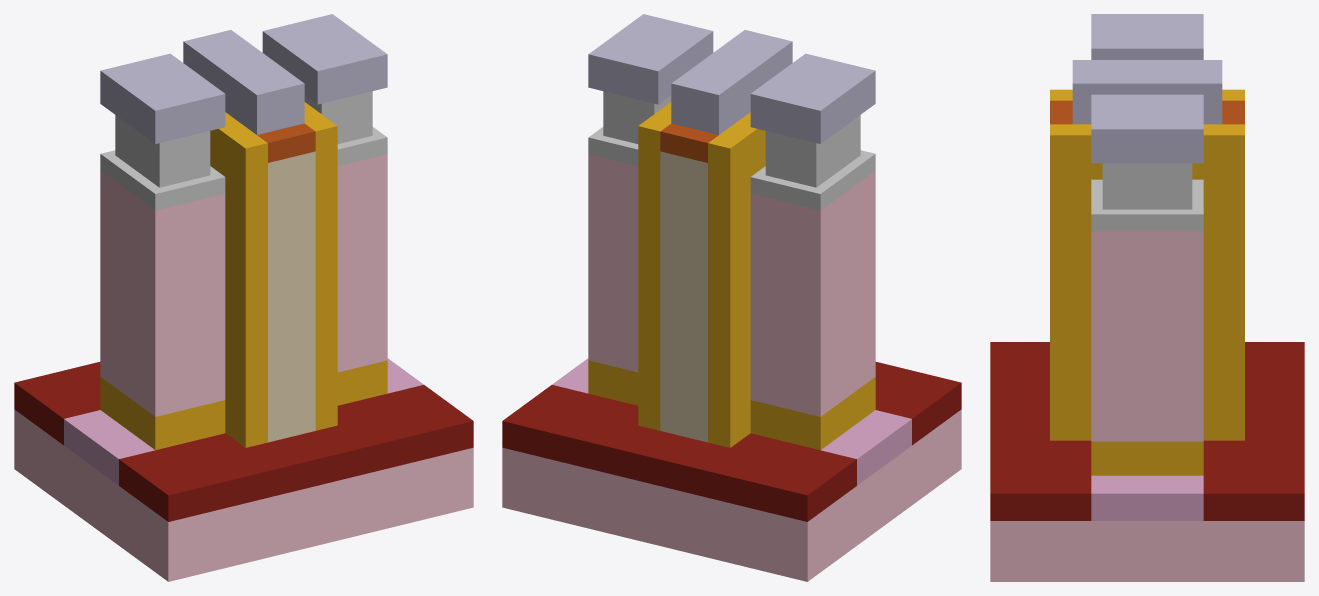
The picture shows the model from 3 angles, left to right: view 1: azimuth 30°, elevation 25°; view 2: azimuth 150°, elevation 25°; view 3: azimuth 270°, elevation 25°; orthographic projection.
Parts seen in each view (by area): view 1: substrate, sti, epi_source, spacer_source, mo, epi_drain, w_source, gatew, w_drain, spacer_drain, bdi, pts (+5 smaller); view 2: substrate, sti, epi_source, spacer_source, mo, epi_drain, w_source, gatew, w_drain, spacer_drain, bdi, pts (+5 smaller); view 3: sti, spacer_drain, epi_drain, substrate, w_drain, gatew, pts, w_source, ni_drain, bdi, nisi_drain, gatecap (+1 smaller).
Part boxes in pixels (x1,y1,x2,y2): substrate: [14, 409, 473, 581]; sti: [14, 362, 473, 521]; epi_source: [100, 170, 225, 416]; spacer_source: [210, 112, 267, 447]; mo: [268, 151, 315, 442]; epi_drain: [337, 154, 387, 372]; w_source: [100, 53, 225, 143]; gatew: [183, 30, 304, 134]; w_drain: [262, 14, 387, 104]; spacer_drain: [304, 102, 337, 430]; bdi: [100, 360, 387, 450]; pts: [64, 358, 423, 485]; substrate: [502, 409, 961, 581]; sti: [502, 362, 961, 521]; epi_source: [750, 170, 875, 416]; spacer_source: [708, 112, 765, 447]; mo: [660, 151, 707, 442]; epi_drain: [588, 154, 638, 372]; w_source: [750, 53, 875, 143]; gatew: [671, 30, 792, 134]; w_drain: [588, 14, 713, 104]; spacer_drain: [638, 102, 671, 430]; bdi: [588, 360, 875, 450]; pts: [552, 358, 911, 485]; sti: [990, 342, 1304, 520]; spacer_drain: [1050, 124, 1244, 440]; epi_drain: [1091, 231, 1203, 441]; substrate: [990, 521, 1304, 581]; w_drain: [1091, 94, 1203, 163]; gatew: [1072, 60, 1222, 124]; pts: [1091, 475, 1203, 520]; w_source: [1091, 14, 1203, 59]; ni_drain: [1102, 163, 1192, 209]; bdi: [1091, 441, 1203, 475]; nisi_drain: [1091, 179, 1203, 231]; gatecap: [1050, 100, 1244, 124].
Size of the model in its own units: 96 by 128 by 84.
